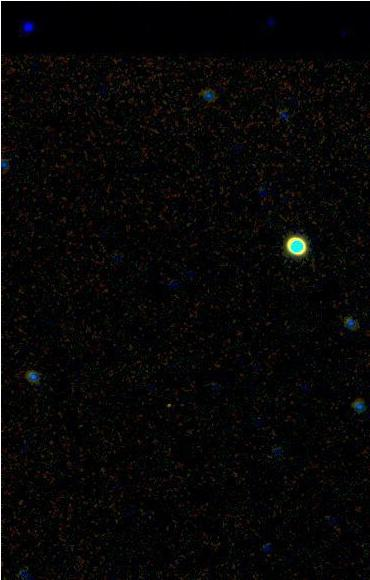star: (156, 389, 186, 419)
